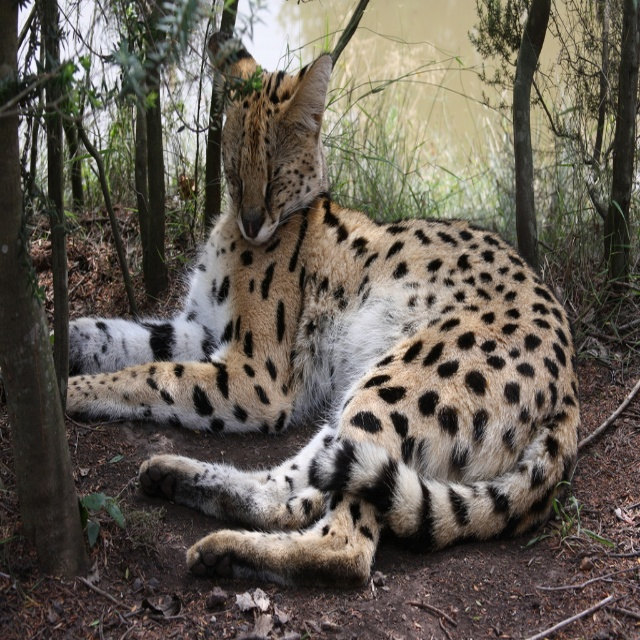Cheetah: (50, 32, 578, 587)
